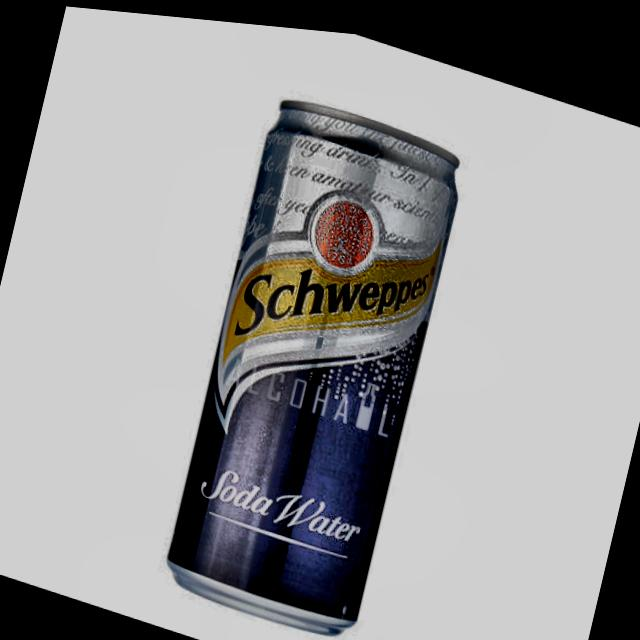Cans: (94, 44, 512, 640)
